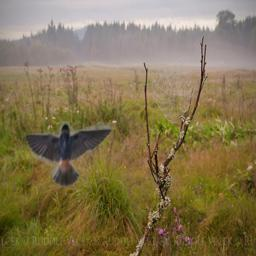Swallow: (24, 121, 115, 187)
